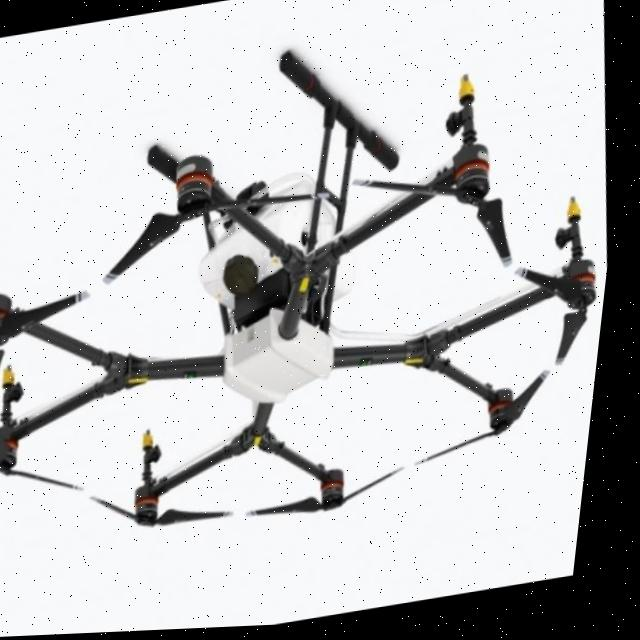drones: (0, 0, 639, 617)
